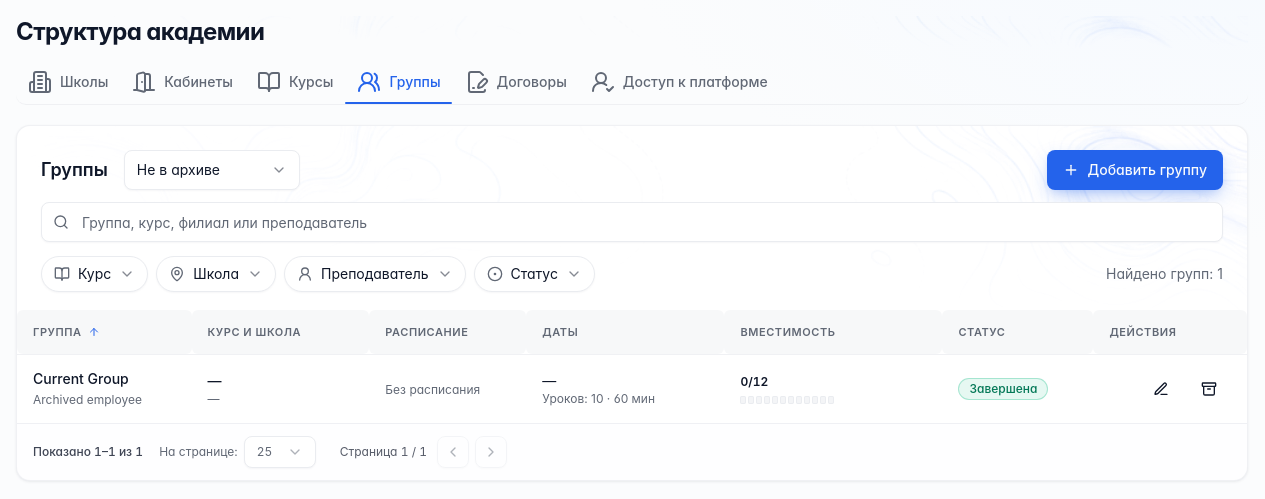
it: uses eligible group teachers for the administration group tab and retains historical names
Expected: the text "Current Group" is shown, [33,370,129,386]
Expected: the text "Archived employee" is shown, [33,392,142,406]
Click the dropdown labelled "Преподаватель": (375, 274) [284,256,466,292]
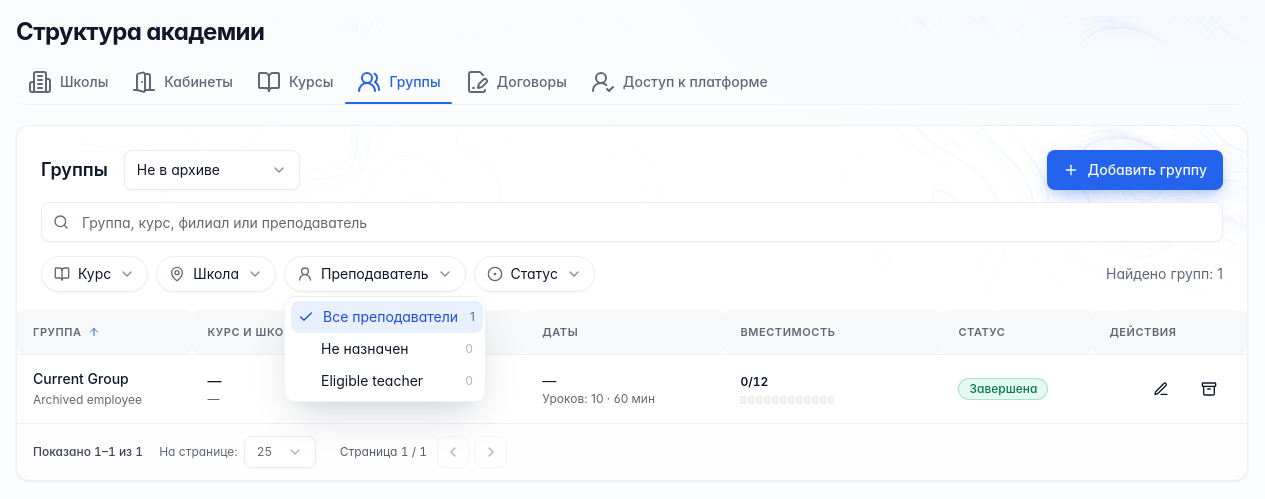
Expected: the option "Eligible teacher 0" is shown, [321,372,473,389]
